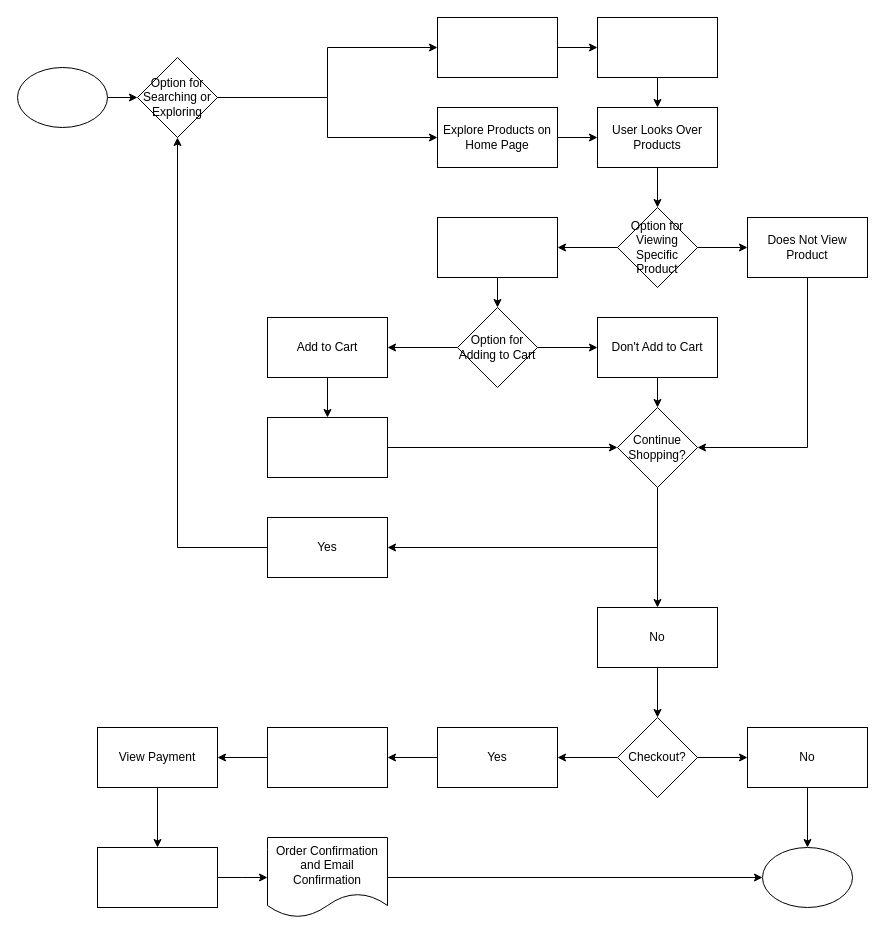
The diagram is 885 pixels wide and 935 high, and some of its shapes have lost their labels. Each missing label, with the centre of its shape:
Input Payment Information: (157,877)
LEAVE WEBSITE: (807,877)
Provide Input to Website of their Search: (657,47)
Receive Add to Cart Confirmation: (327,447)
Search for Product: (497,47)
User Enters Website: (62,97)
View Cart: (327,757)
Viewing Specific Product: (497,247)
